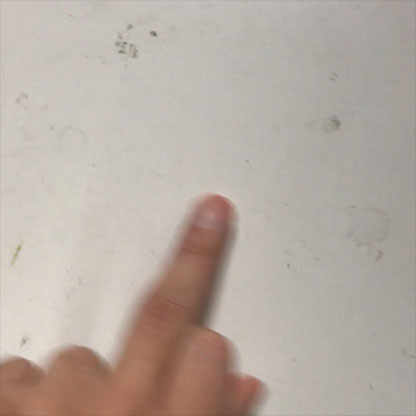fingertip: (185, 181, 244, 243)
